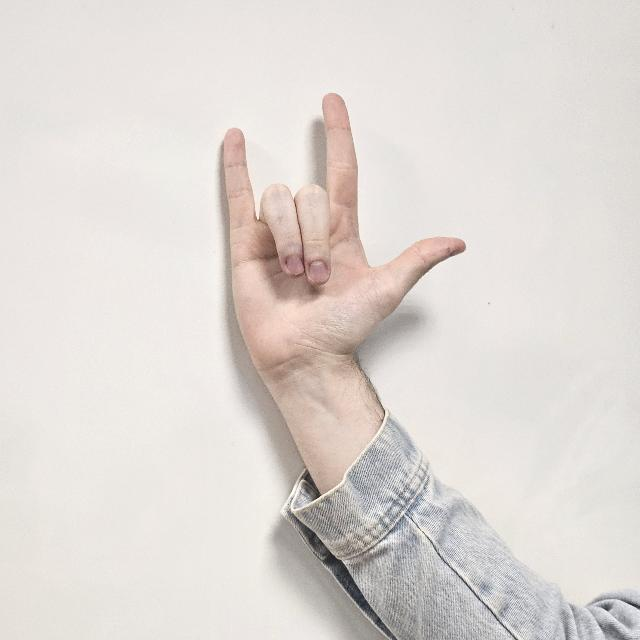Cima: (218, 86, 464, 388)
